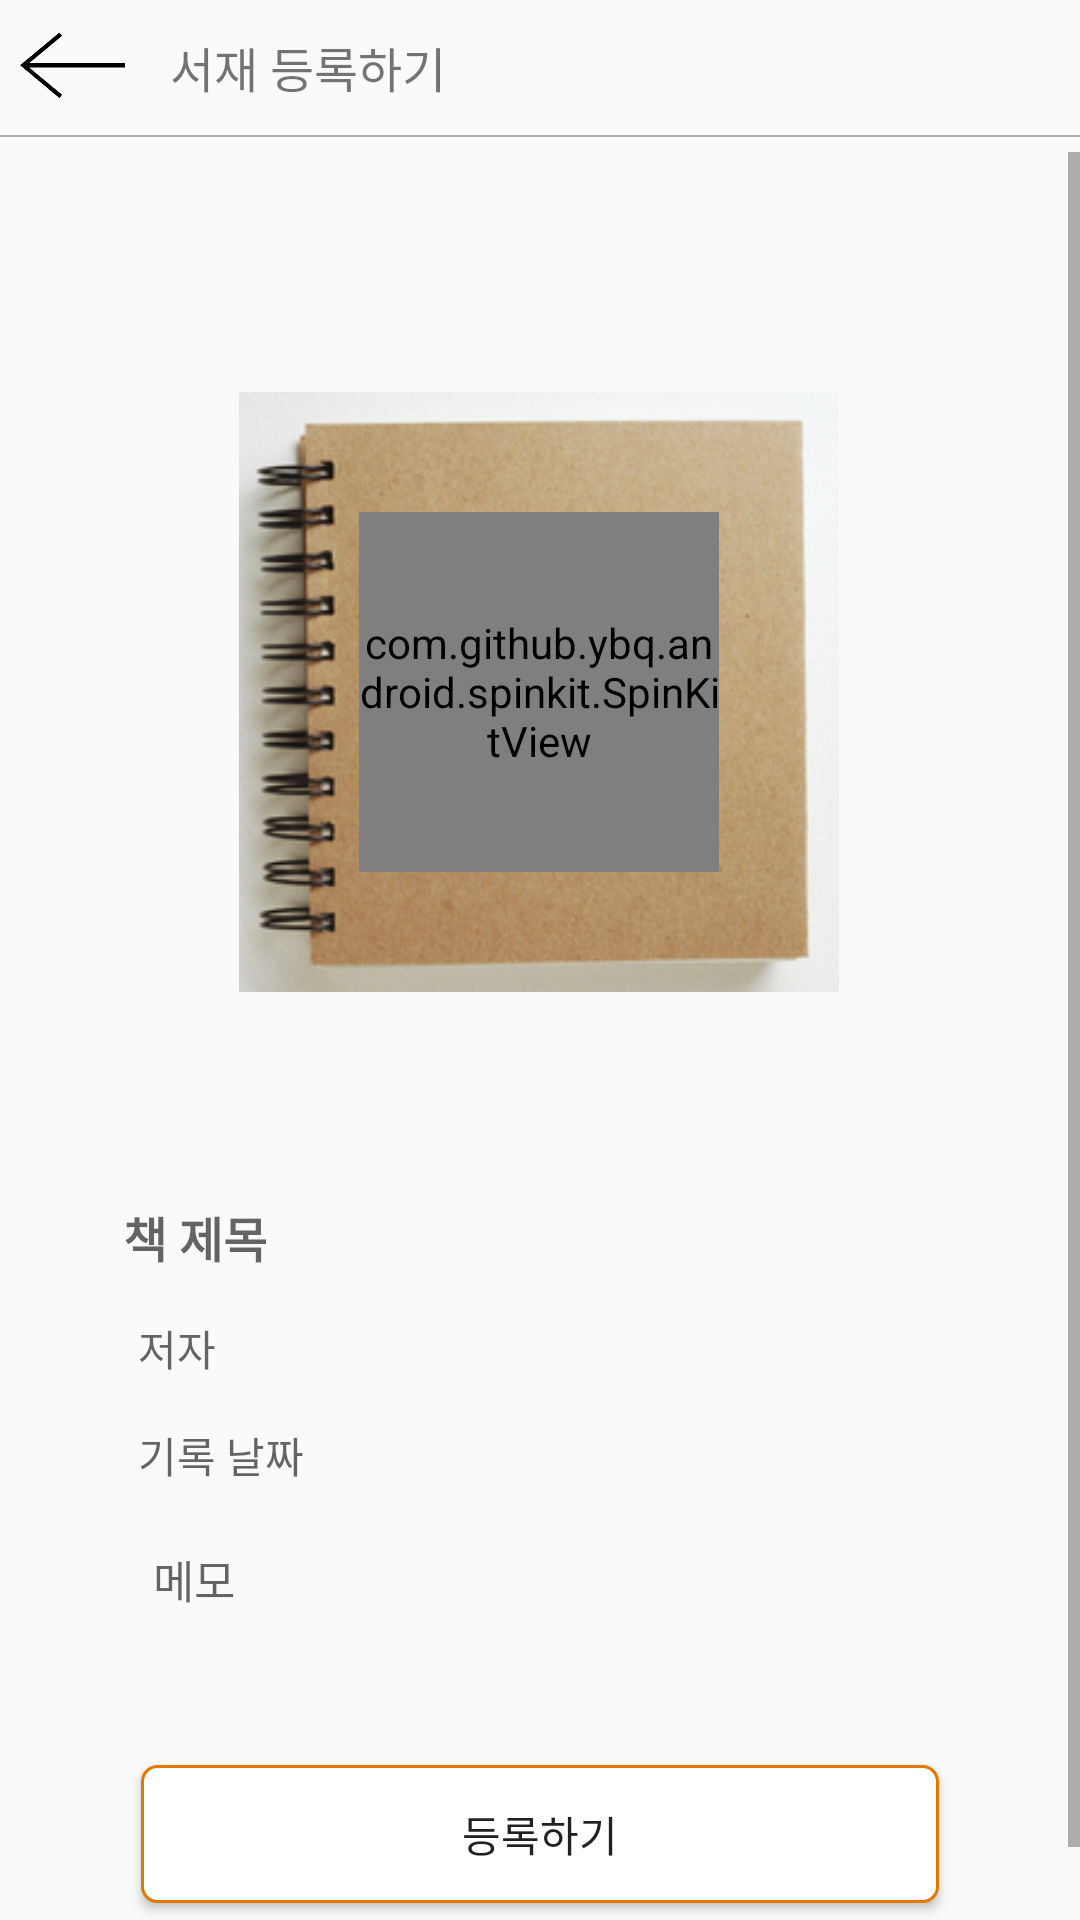

Screen size 1080 x 1920. Icon name, then its box in pixels as [x1, y1, x2, y2]:
back: [20, 32, 125, 98]
